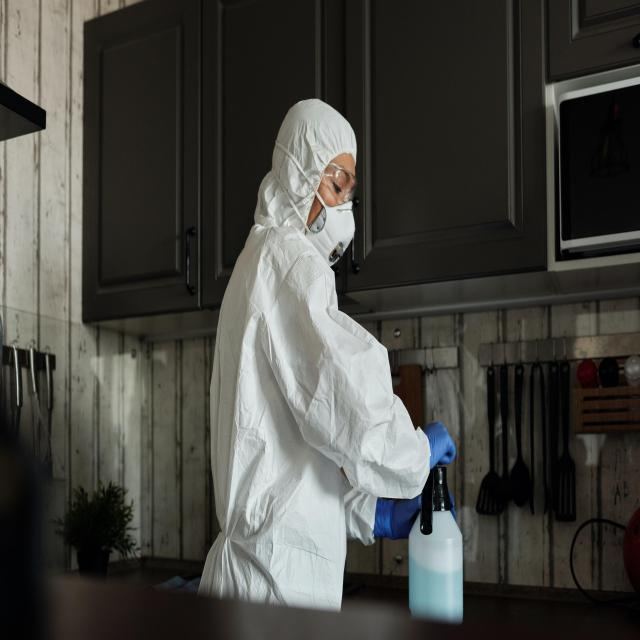Gloves: (372, 495, 423, 551), (423, 420, 460, 475)
Mask: (304, 198, 356, 270)
